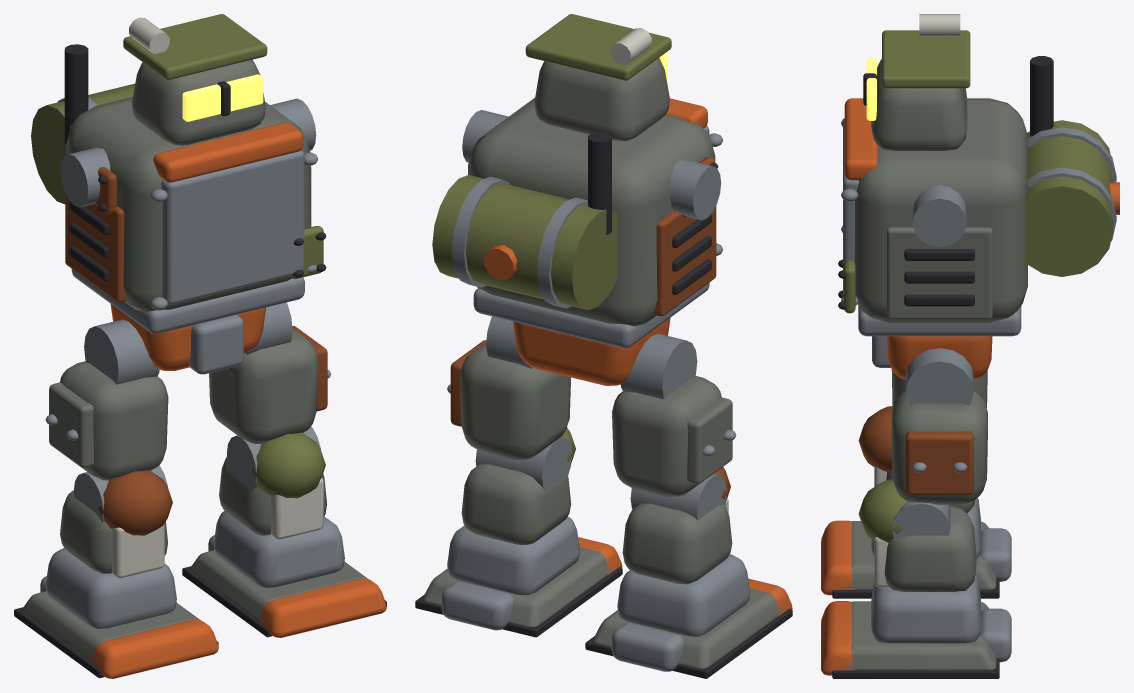
Rendered from ch_hauler.glb.
3 renders of one model, left to right at view 1: azimuth 30°, elevation 25°; view 2: azimuth 150°, elevation 25°; view 3: azimuth 270°, elevation 25°, orthographic. The views are drawn at different scales.
Parts seen in each view (by area): view 1: ch_hauler, limb_leg_l, limb_leg_r; view 2: ch_hauler, limb_leg_l, limb_leg_r; view 3: ch_hauler, limb_leg_r, limb_leg_l.
Boxes of the visible parts, box(x1,y1,x2,y2) form: ch_hauler: box(31, 14, 326, 374); limb_leg_l: box(14, 319, 218, 678); limb_leg_r: box(182, 302, 386, 637); ch_hauler: box(432, 14, 723, 385); limb_leg_l: box(585, 333, 792, 678); limb_leg_r: box(415, 316, 622, 637); ch_hauler: box(838, 14, 1119, 379); limb_leg_r: box(821, 348, 1011, 678); limb_leg_l: box(821, 370, 1011, 598).
Bounding box in the file's own units: 0.4246 × 0.8267 × 0.3881.
